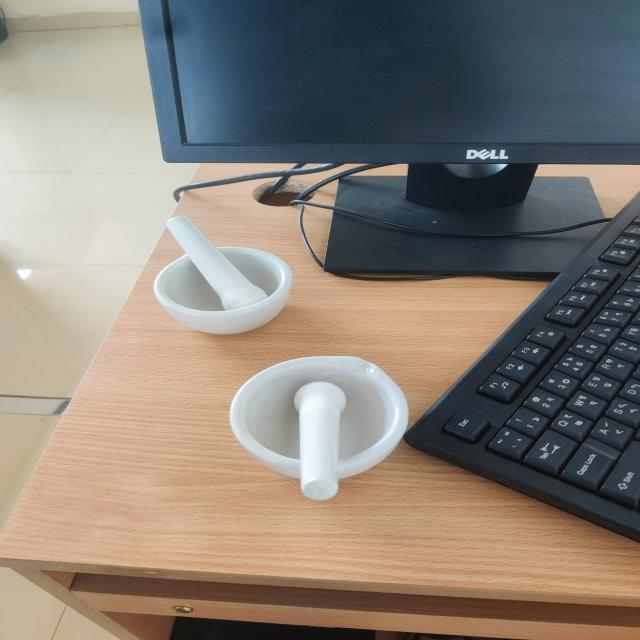Porcelain_Mortar Pestle: (207, 346, 440, 519), (128, 194, 311, 346)
